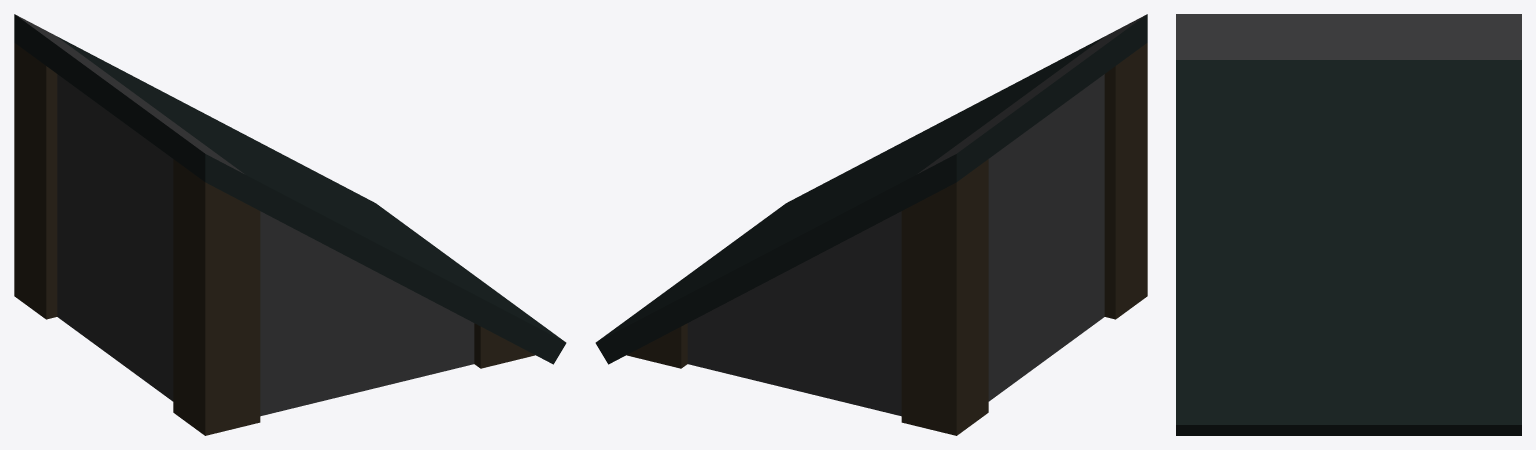
The model's file is Roof_Slant_Green_01.obj.
3 views of the same model, side by side, from view 1: azimuth 30°, elevation 25°; view 2: azimuth 150°, elevation 25°; view 3: azimuth 270°, elevation 25° (orthographic). The views are drawn at different scales.
Visible parts, largest first — view 1: Mesh1_Roof_Slant_Green_Model.005; view 2: Mesh1_Roof_Slant_Green_Model.005; view 3: Mesh1_Roof_Slant_Green_Model.005.
Boxes of the visible parts, bbox=[...] form: Mesh1_Roof_Slant_Green_Model.005: bbox=[14, 14, 566, 435]; Mesh1_Roof_Slant_Green_Model.005: bbox=[595, 14, 1147, 435]; Mesh1_Roof_Slant_Green_Model.005: bbox=[1176, 14, 1521, 435].
Bounding box in the file's own units: 3.28 × 2.57 × 3.
